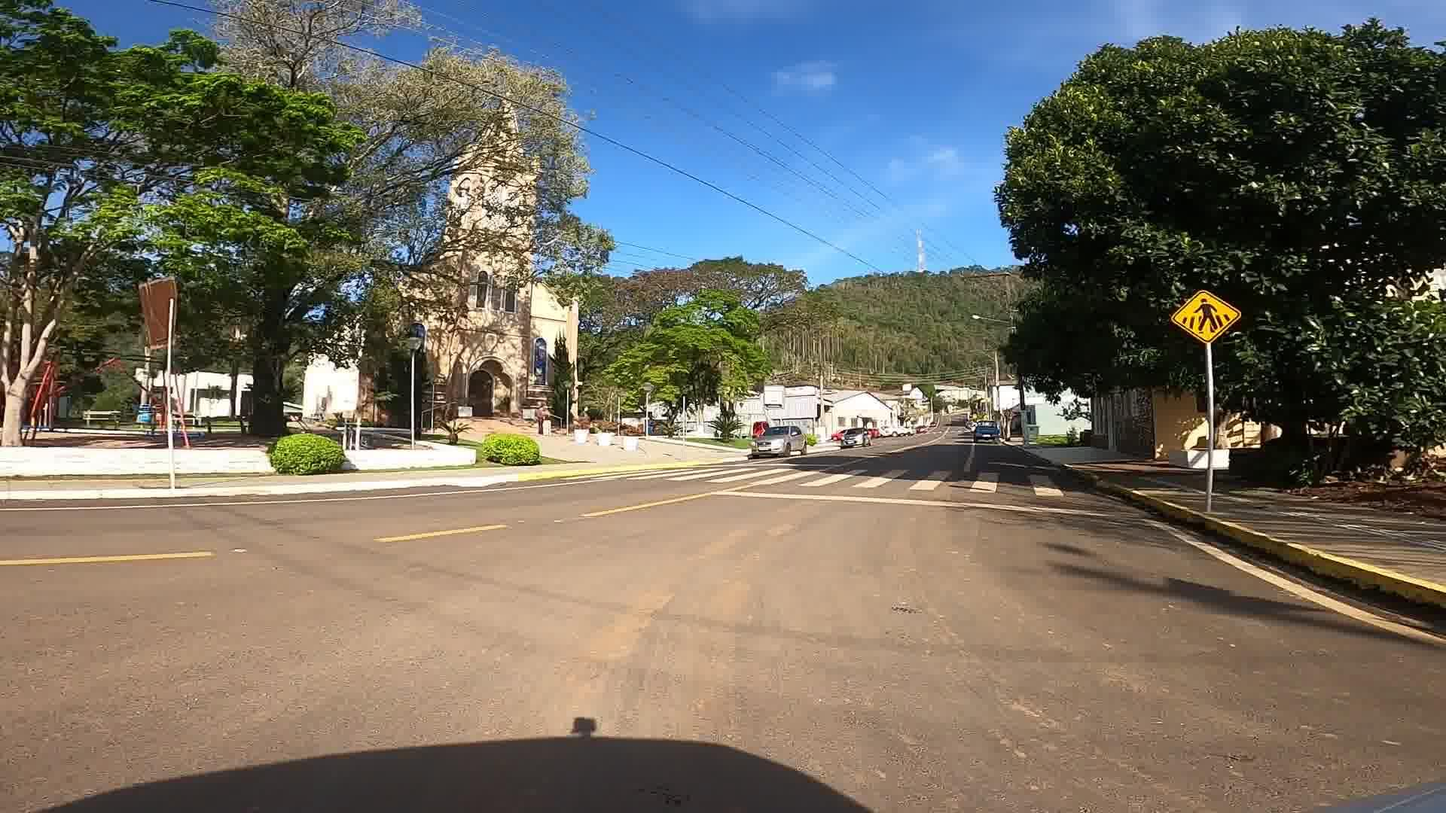A-32b: (1171, 285, 1242, 349)
